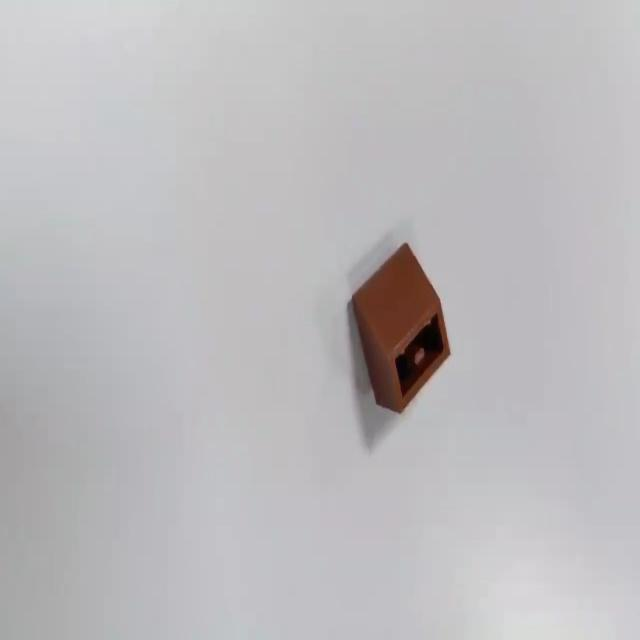X2x2x1: (349, 239, 451, 414)
